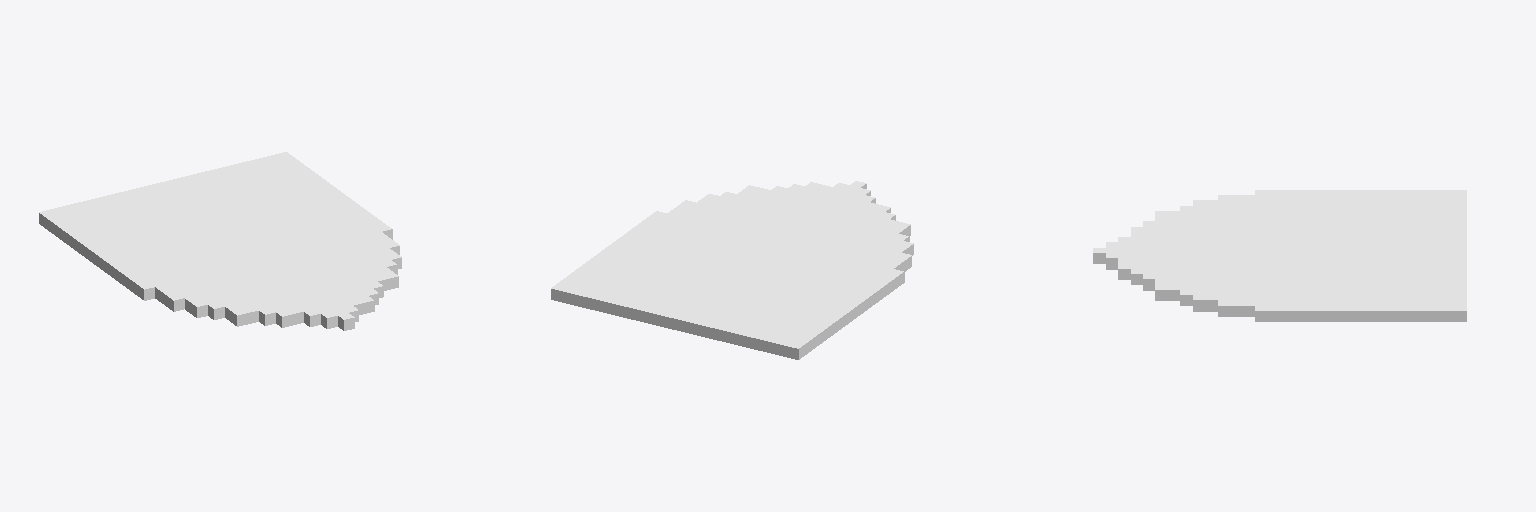
The model's file is lapata-1.obj.
The picture shows the model from 3 angles: view 1: azimuth 30°, elevation 25°; view 2: azimuth 150°, elevation 25°; view 3: azimuth 270°, elevation 25°; orthographic projection.
Parts seen in each view (by area): view 1: object 1; view 2: object 1; view 3: object 1.
Part boxes in pixels (x1,y1,x2,y2): object 1: (39, 152, 401, 330); object 1: (551, 181, 913, 359); object 1: (1093, 190, 1466, 321).
Bounding box in the file's own units: 2.3 × 0.1 × 3.